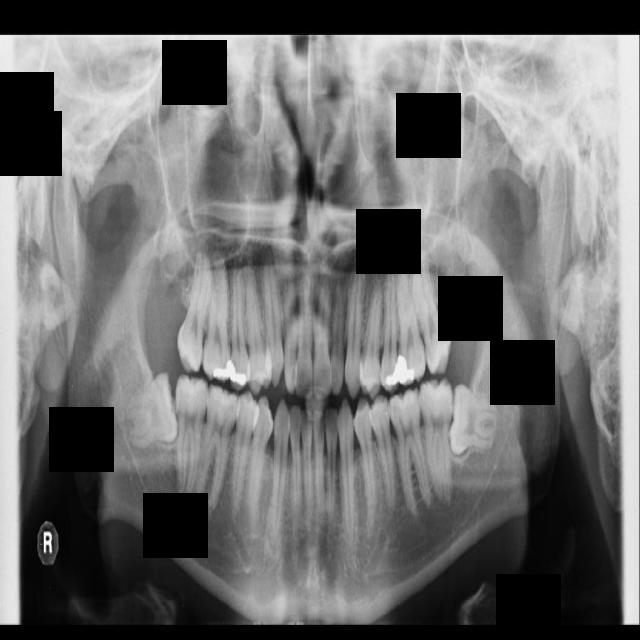52: (191, 331, 261, 394), (371, 338, 436, 396)
73: (580, 526, 588, 546)
BioHorizons Implant: (402, 249, 459, 377)
Biomet 3i Implant: (446, 384, 506, 459)
Blue Sky Bio Implant: (416, 377, 467, 508)
Caries: (174, 250, 216, 374)
Implant: (175, 374, 209, 497)
Keystone Dental Implant: (113, 371, 187, 454)
